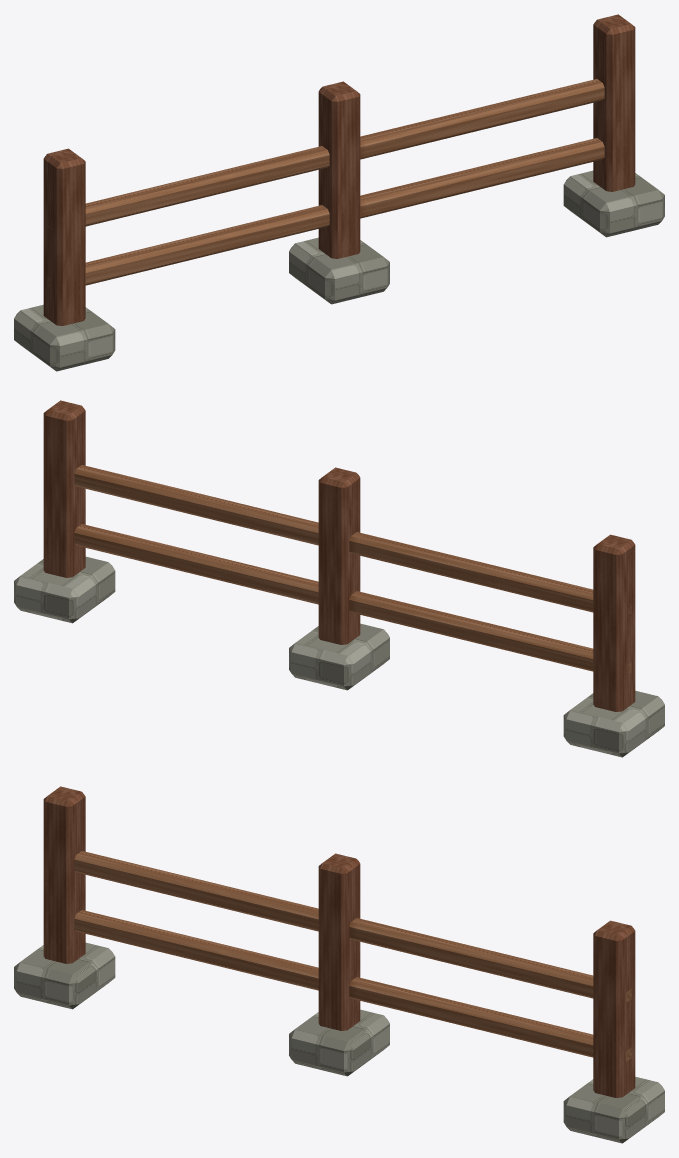
File: boundary_fence.gltf
3 views of the same model, one above another, from view 1: azimuth 30°, elevation 25°; view 2: azimuth 150°, elevation 25°; view 3: azimuth 330°, elevation 25° (orthographic).
Parts seen in each view (by area): view 1: boundary_fence; view 2: boundary_fence; view 3: boundary_fence.
Boxes of the visible parts, <box> form: boundary_fence: <box>14,14,664,371</box>; boundary_fence: <box>14,400,664,757</box>; boundary_fence: <box>14,786,664,1143</box>.
Bounding box in the file's own units: 4.25 × 1.3 × 0.52.
3 materials, 3 textured.
